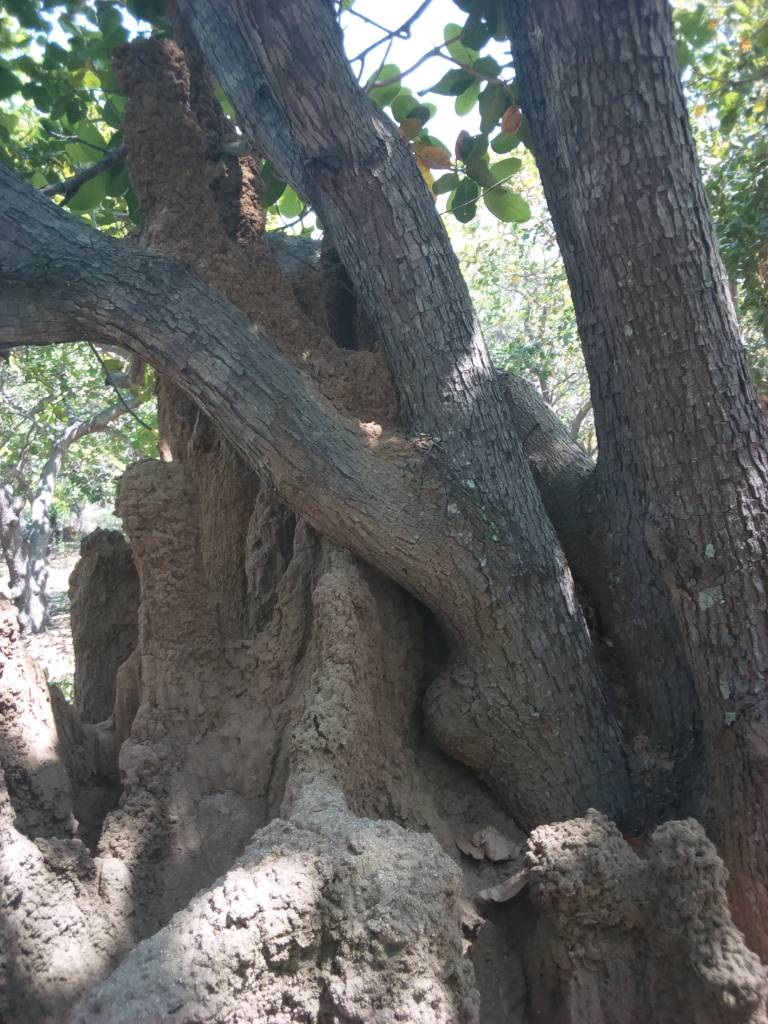Termites: (129, 666, 458, 1024), (7, 624, 140, 1024), (533, 816, 768, 1024), (118, 453, 290, 661), (111, 21, 232, 244), (260, 271, 402, 414)
